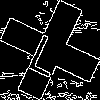L: (25, 25, 70, 78)
